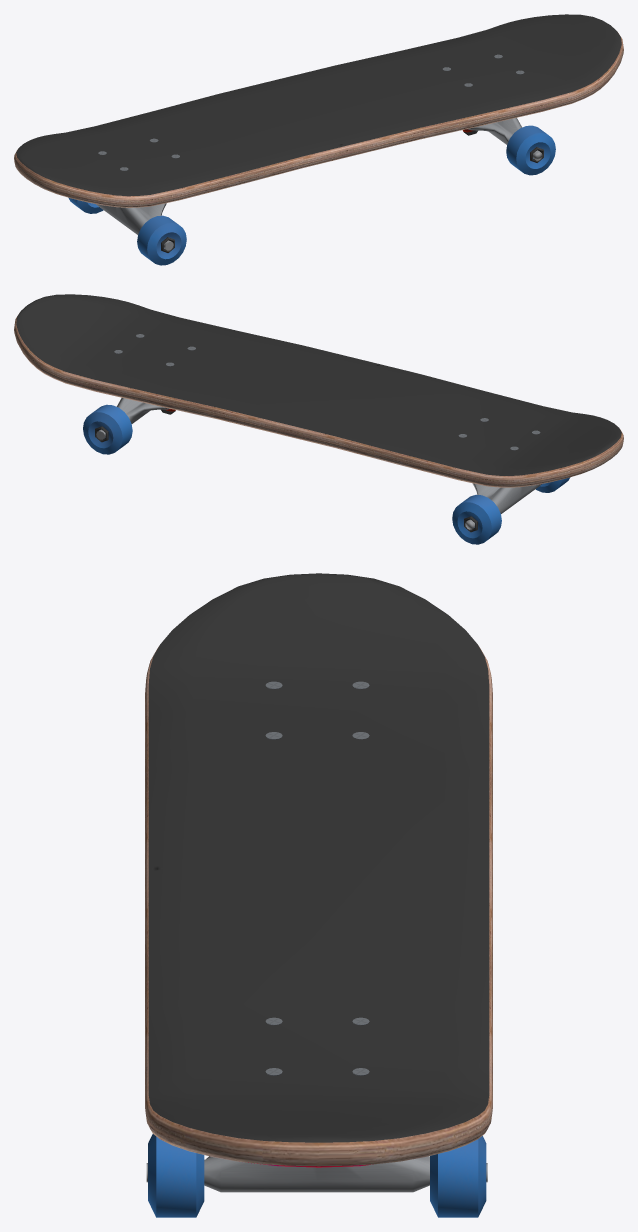
Rendered from skateboard.glb.
3 renders of one model, top to bottom at view 1: azimuth 30°, elevation 25°; view 2: azimuth 150°, elevation 25°; view 3: azimuth 270°, elevation 25°, orthographic. The views are drawn at different scales.
Parts seen in each view (by area): view 1: polySurface9, polySurface21, polySurface22, polySurface33, polySurface19; view 2: polySurface9, polySurface20, polySurface32, polySurface33, polySurface19; view 3: polySurface9, polySurface19, polySurface22, polySurface20.
Part boxes in pixels (box(x1,y1,x2,y2)): polySurface9: box(14, 14, 623, 207); polySurface21: box(137, 215, 186, 265); polySurface22: box(506, 125, 555, 175); polySurface33: box(96, 203, 173, 250); polySurface19: box(467, 117, 542, 160); polySurface9: box(14, 294, 623, 487); polySurface20: box(83, 404, 132, 454); polySurface32: box(452, 494, 501, 544); polySurface33: box(465, 483, 541, 529); polySurface19: box(96, 398, 169, 439); polySurface9: box(145, 573, 492, 1167); polySurface19: box(146, 1156, 487, 1192); polySurface22: box(148, 1134, 204, 1217); polySurface20: box(430, 1136, 486, 1217).
Bounding box in the file's own units: 23.78 × 3.59 × 6.11.
1 material, 1 textured.
